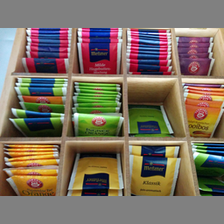tea: (8, 78, 65, 134), (130, 145, 185, 196), (2, 145, 58, 192), (73, 83, 121, 136), (68, 151, 124, 194), (182, 83, 224, 140), (126, 28, 174, 74), (77, 28, 121, 74), (23, 28, 70, 71), (192, 141, 224, 193), (176, 35, 214, 74)
